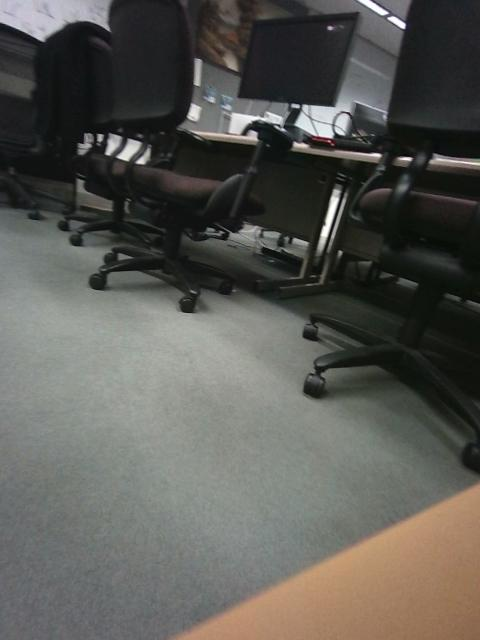block: (410, 372, 473, 422)
